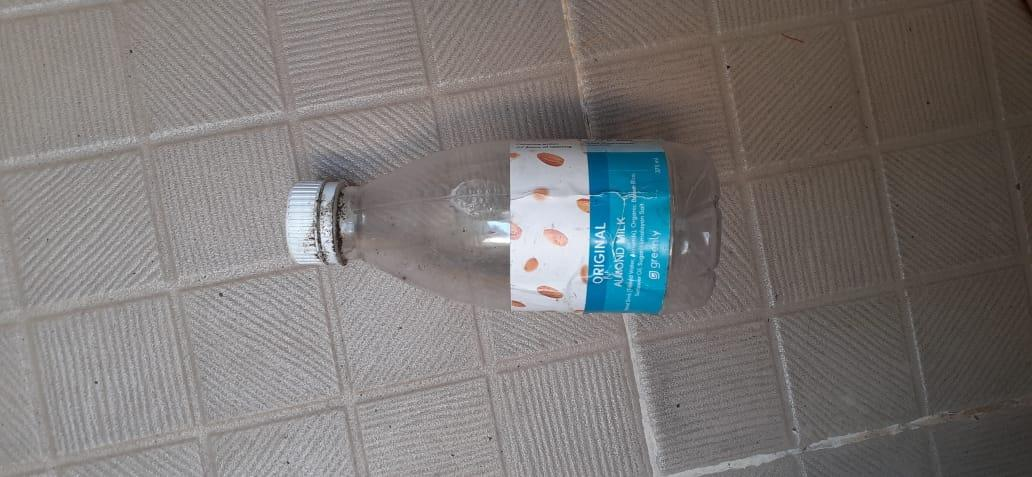Plastik: (286, 132, 722, 315)
